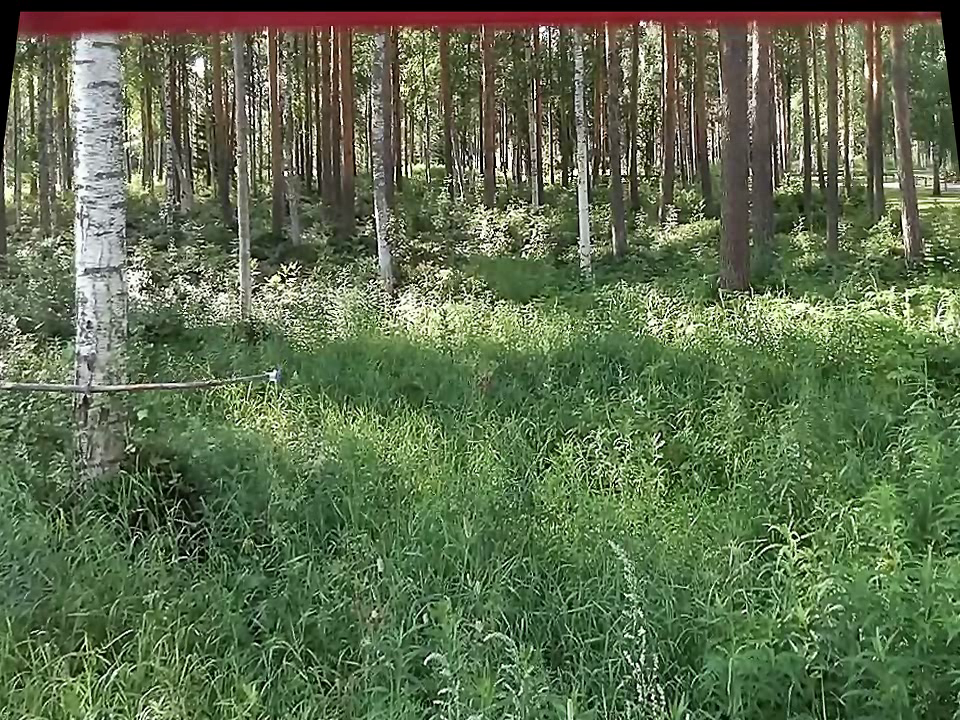branch: (1, 364, 261, 400)
